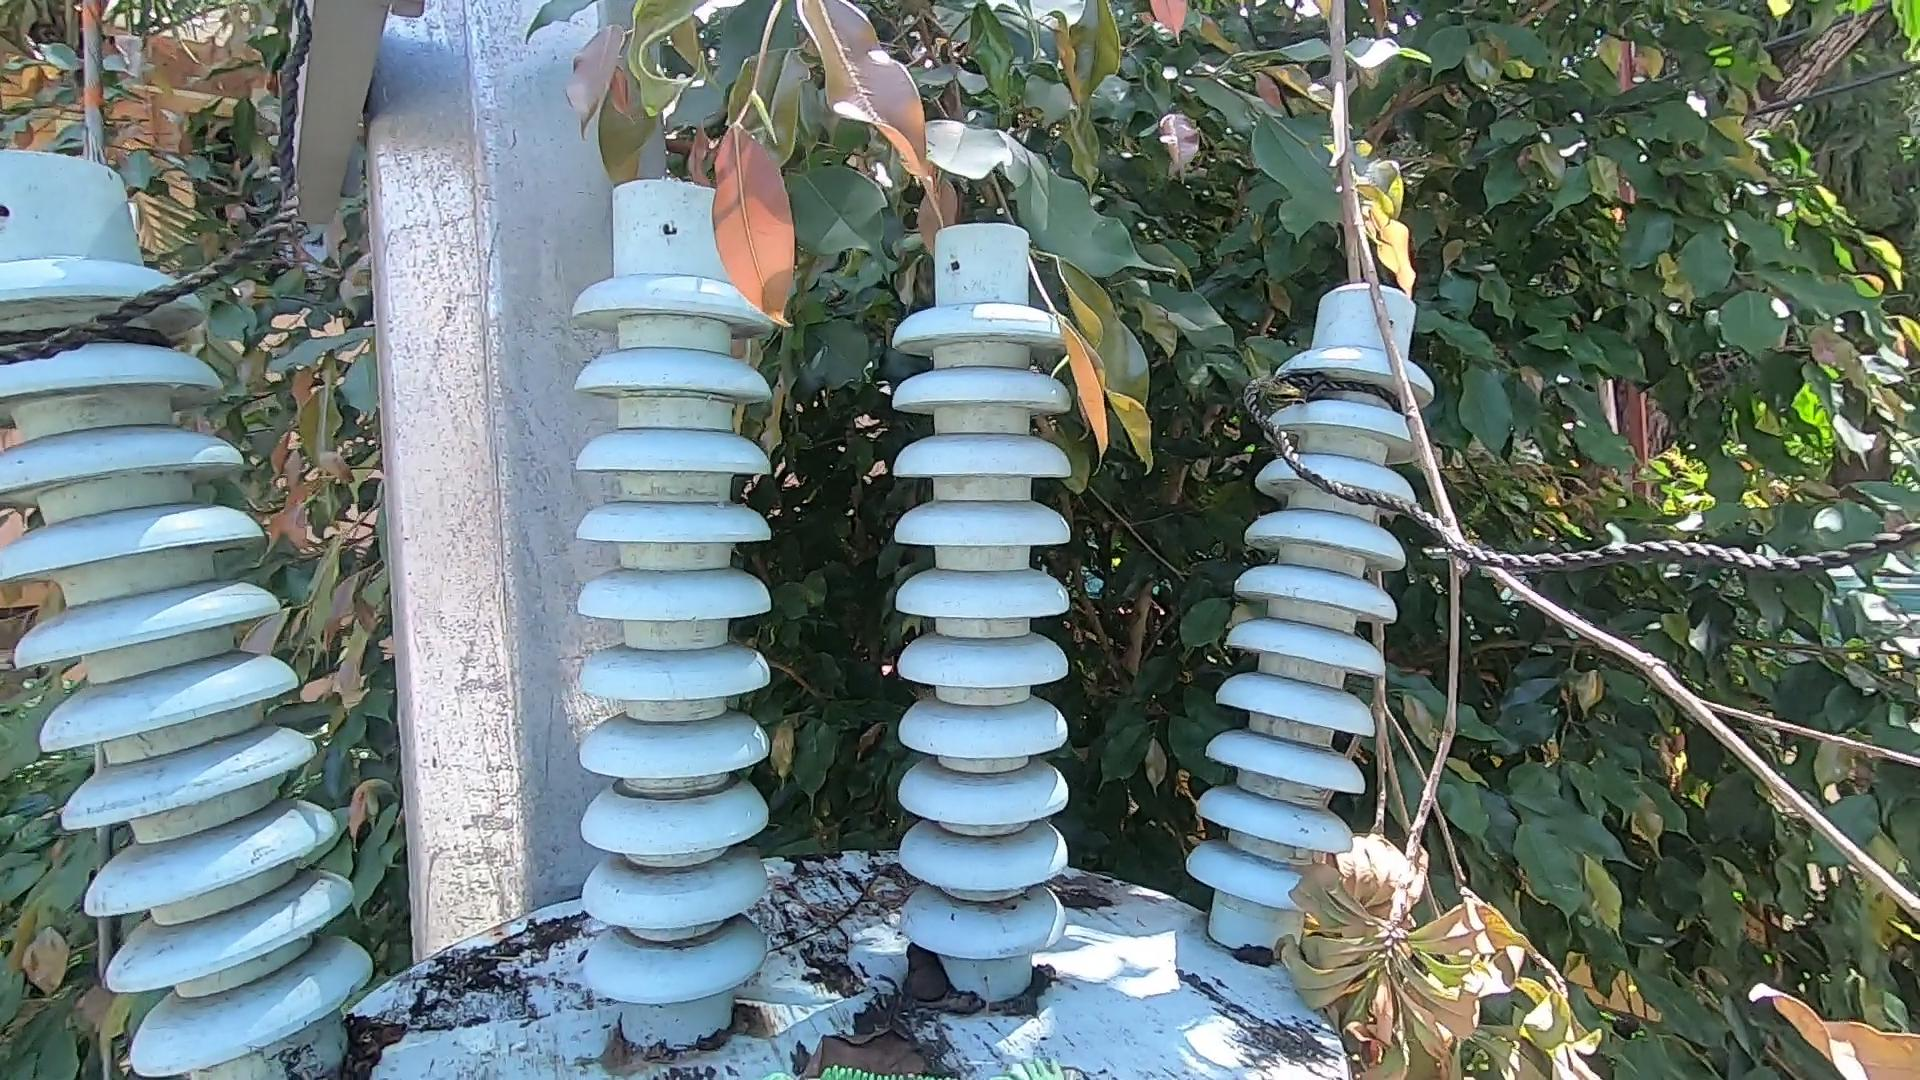branch with leaves: (1254, 5, 1920, 1077)
leaf: (789, 1023, 967, 1069), (891, 939, 975, 1013), (1004, 971, 1065, 1007)
tree branch: (771, 866, 887, 951)
